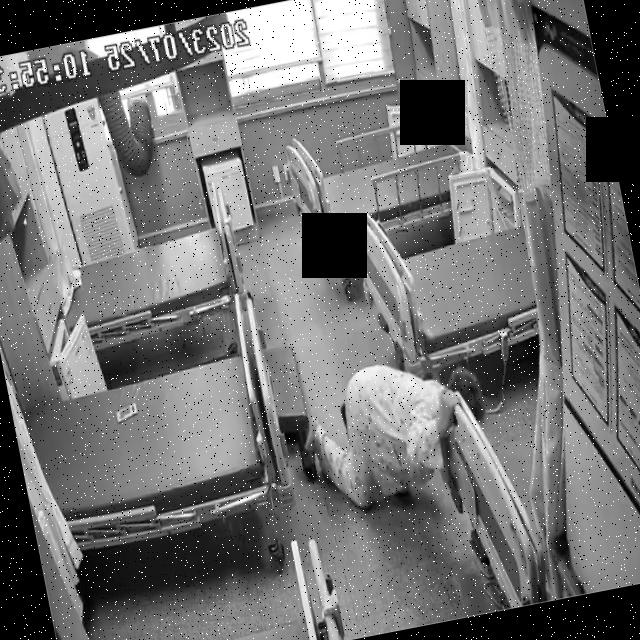bed: (16, 342, 279, 557), (346, 183, 550, 390), (284, 102, 489, 256), (49, 199, 250, 352)
fall: (292, 334, 493, 520)
patient: (294, 334, 494, 520)
